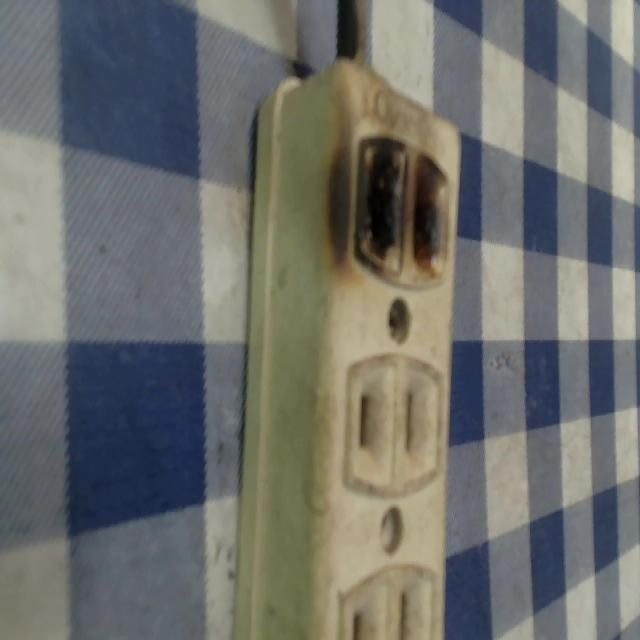-: (335, 120, 461, 297)
